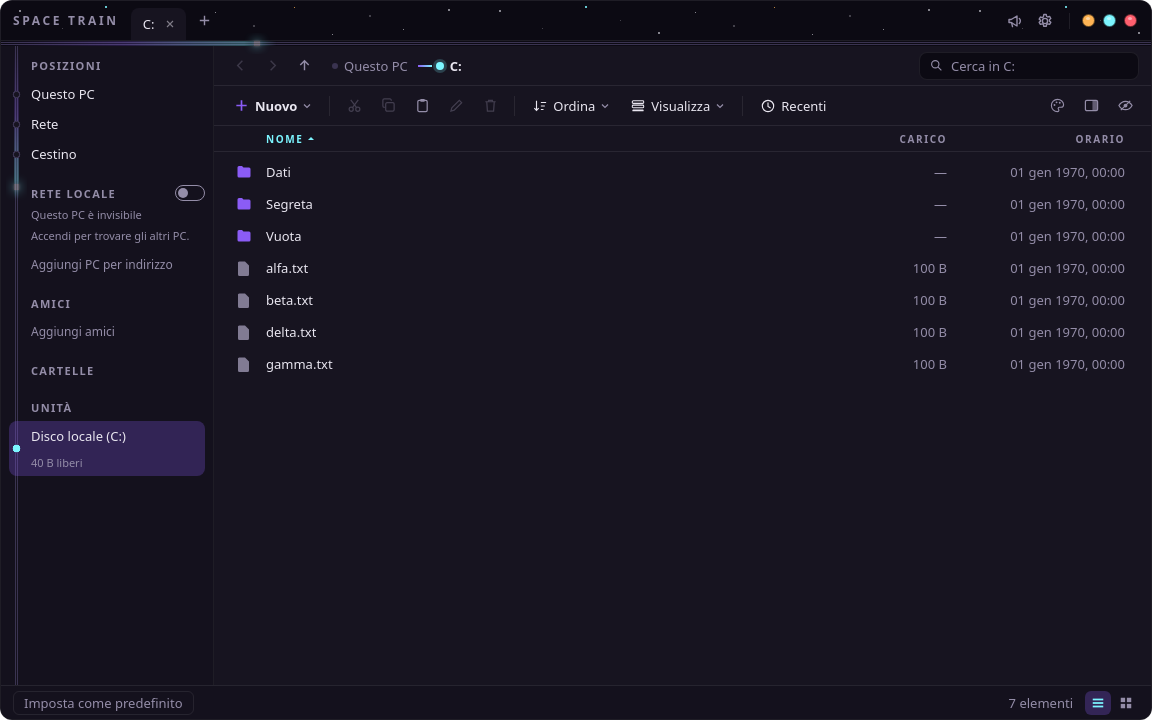
it: preferiti › nella vista a griglia la divisione resta
Click the row "delta.txt 100 B 01 gen 1970, 00:00".
click(291, 332)  # box [236, 323, 1125, 341]
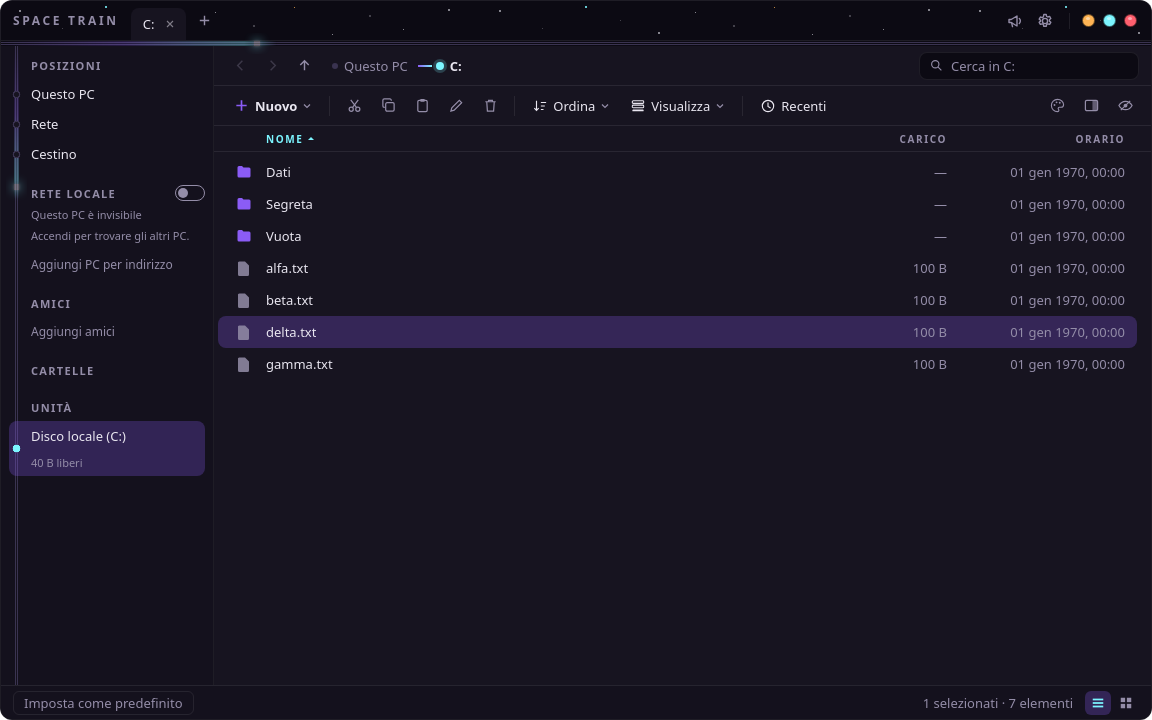
Press d
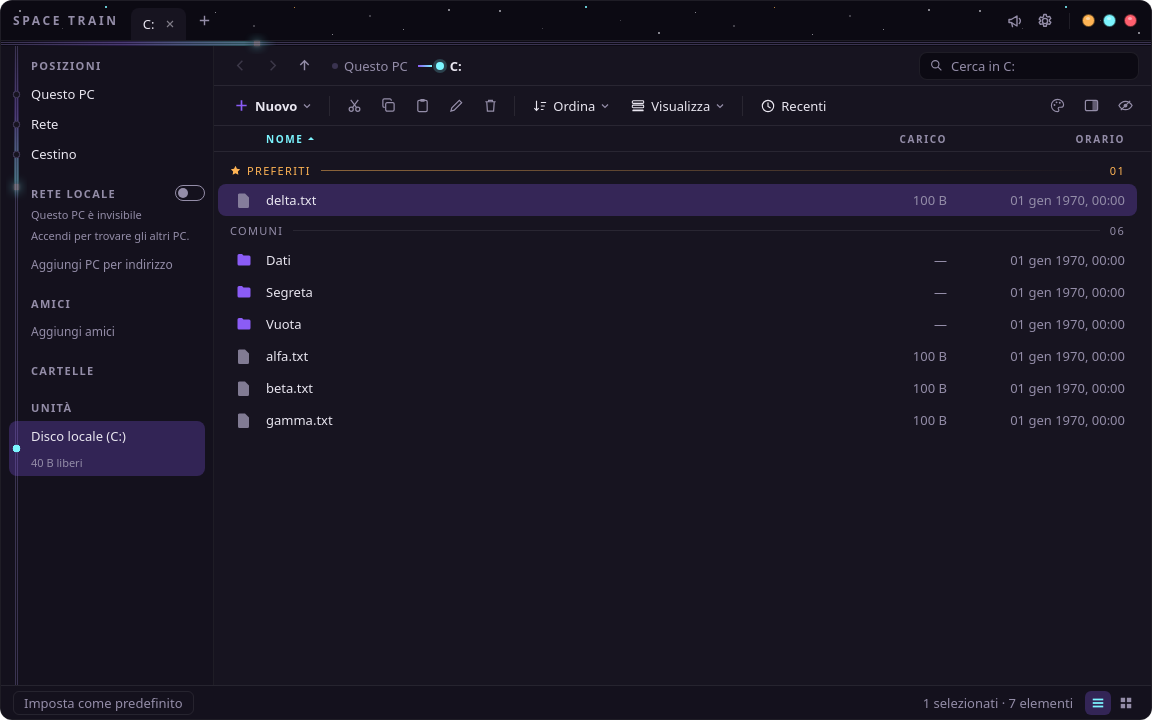
Click the button named "Icone grandi".
click(1126, 702)  # box [1113, 690, 1139, 714]
(page scrolled)
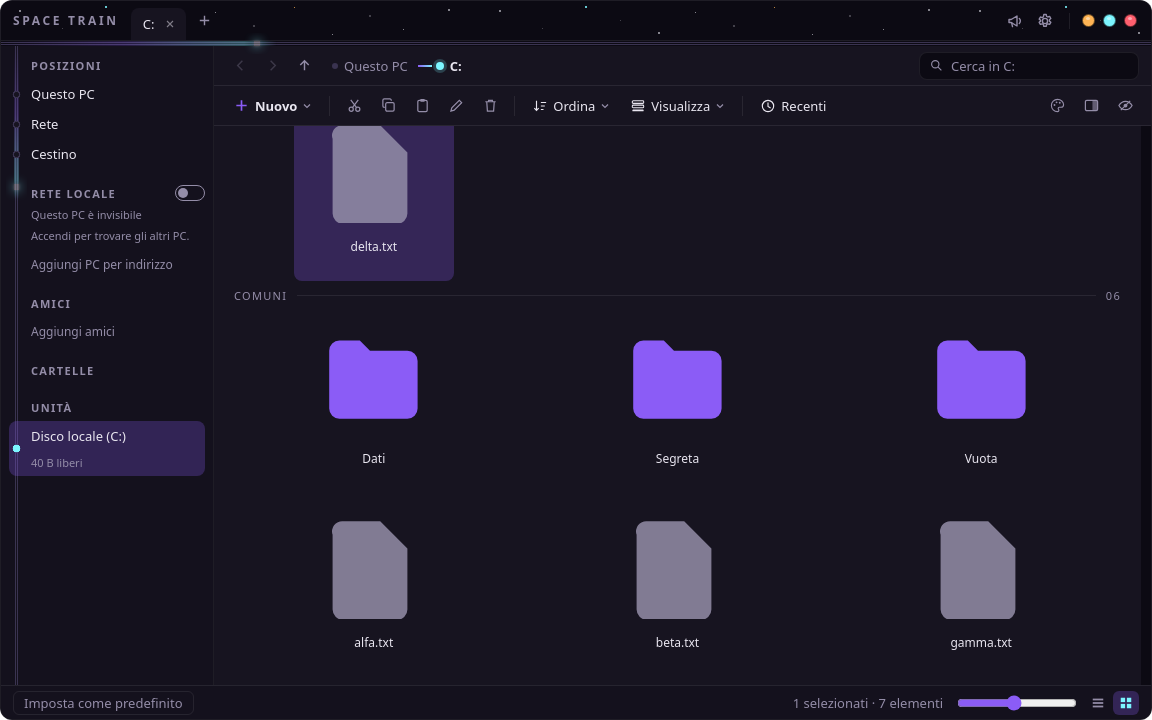
Expected: the text with class "nome" reads "delta.txt", [350, 238, 397, 255]
Expected: the table named "Comuni" is shown, [319, 327, 1036, 651]
